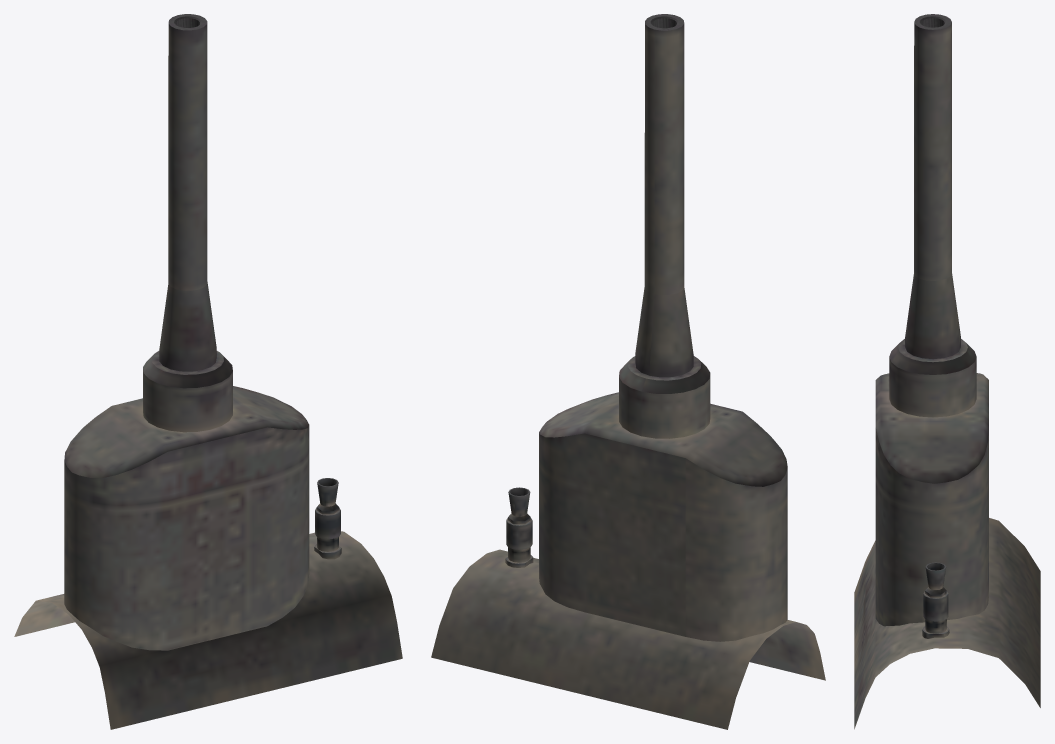
File: Gun_01.glb
The picture shows the model from 3 angles, left to right: view 1: azimuth 30°, elevation 25°; view 2: azimuth 150°, elevation 25°; view 3: azimuth 270°, elevation 25°; orthographic projection. The views are drawn at different scales.
Parts seen in each view (by area): view 1: set_0_group_0; view 2: set_0_group_0; view 3: set_0_group_0.
Part boxes in pixels (box(x1,y1,x2,y2)): set_0_group_0: box(14, 14, 402, 729); set_0_group_0: box(431, 14, 825, 729); set_0_group_0: box(854, 14, 1040, 729).
Size of the model in its own units: 0.6853 by 1.46 by 0.3923.
Materials: 1 (1 with a texture image).
